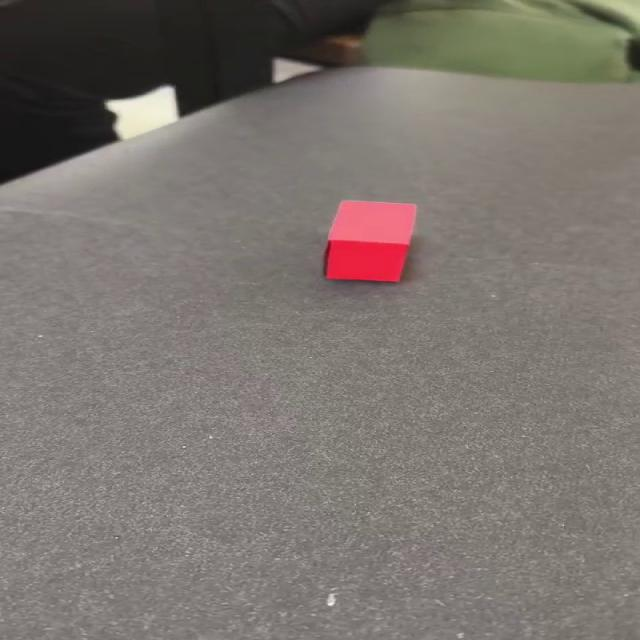red block: (322, 199, 418, 282)
